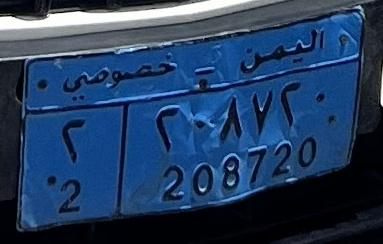city: (30, 108, 116, 223)
number: (120, 63, 360, 220)
text: (29, 11, 362, 113)
